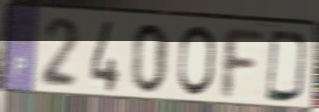0: (128, 23, 174, 97)
2: (41, 15, 82, 92)
4: (89, 18, 121, 96)
D: (263, 28, 311, 106)
F: (220, 25, 268, 102)
O: (175, 24, 218, 100)
